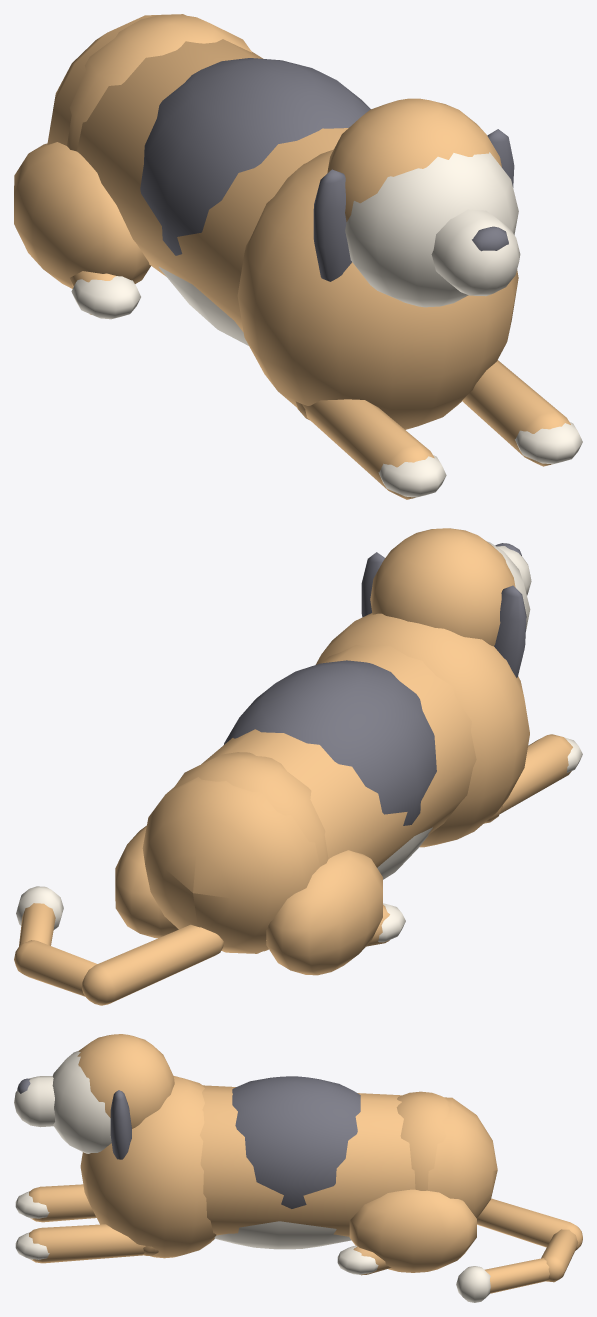
Rendered from companion-animals-and-pet-home-dog-hound-lie-0f9ee471__20580.glb.
3 views of the same model, one above another, from view 1: azimuth 30°, elevation 25°; view 2: azimuth 150°, elevation 25°; view 3: azimuth 270°, elevation 25° (orthographic). The views are drawn at different scales.
Parts seen in each view (by area): view 1: dog-hound-lie; view 2: dog-hound-lie; view 3: dog-hound-lie.
Boxes of the visible parts, x1,y1,x2,y2 form: dog-hound-lie: (14, 14, 582, 499); dog-hound-lie: (14, 528, 582, 1005); dog-hound-lie: (14, 1034, 582, 1302).
Bounding box in the file's own units: 0.4175 × 0.3649 × 0.8878.
